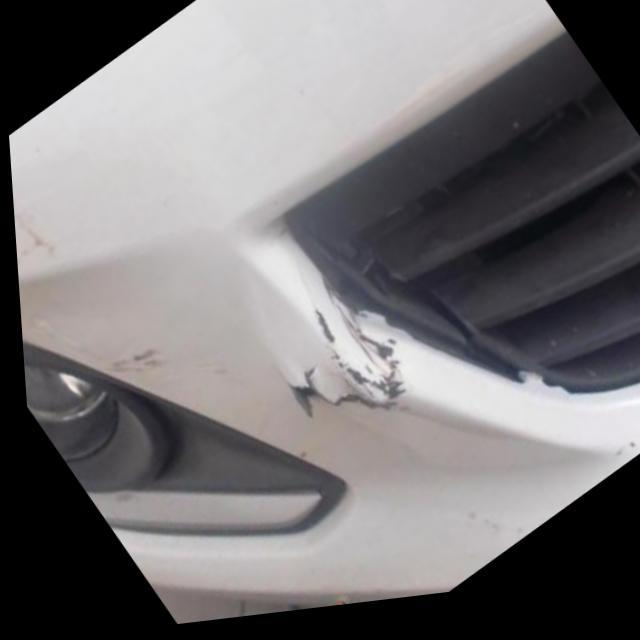crack: (264, 274, 423, 438), (10, 187, 54, 274)
scratch: (103, 341, 158, 380)
